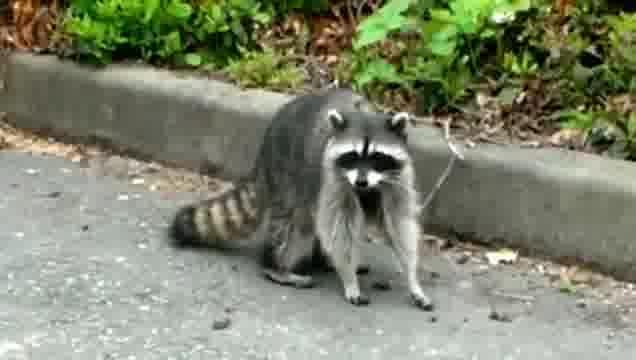raccoon: (169, 93, 434, 311)
